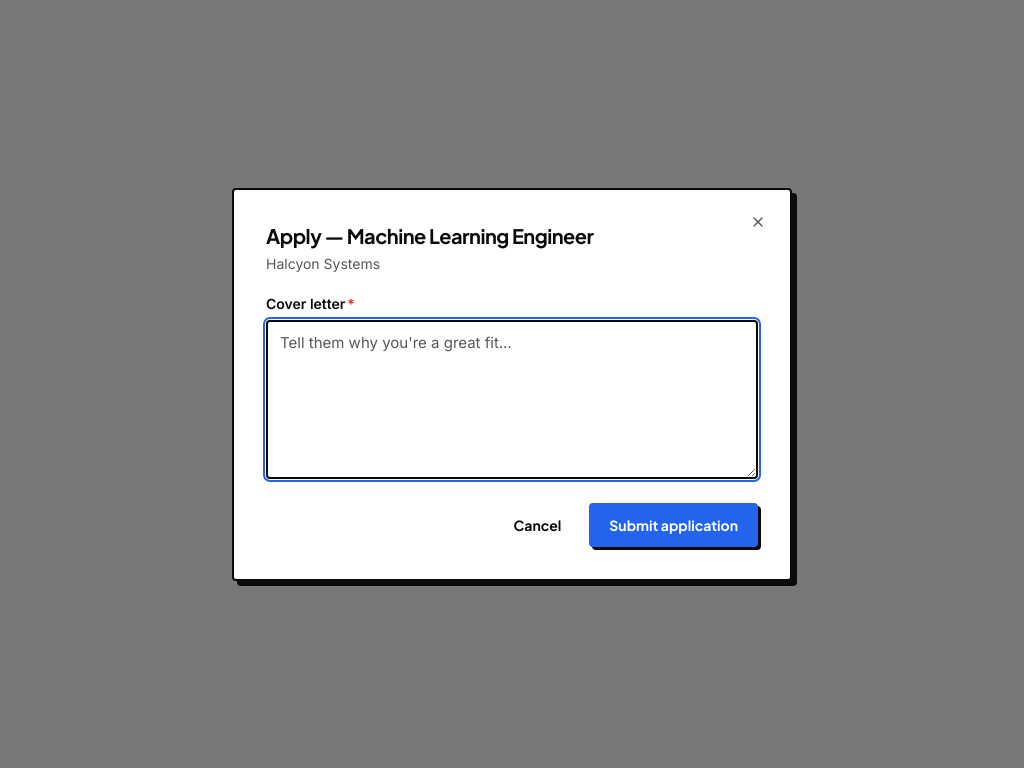
ApplyModal › renders a 400 API error inline and keeps the modal open
Step 1. Type "Hi!" into the text box labelled "Cover letter*" → (512, 399), box [266,320,758,478]
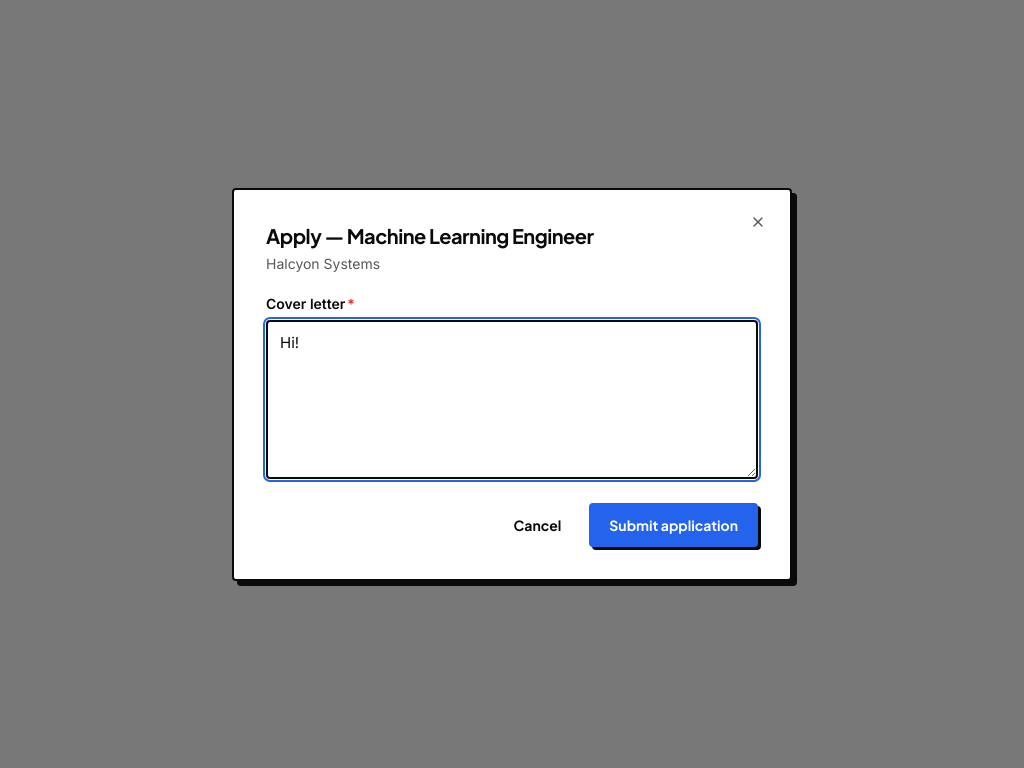
Step 2. Click the button "Submit application" → (674, 524), box [589,502,758,546]
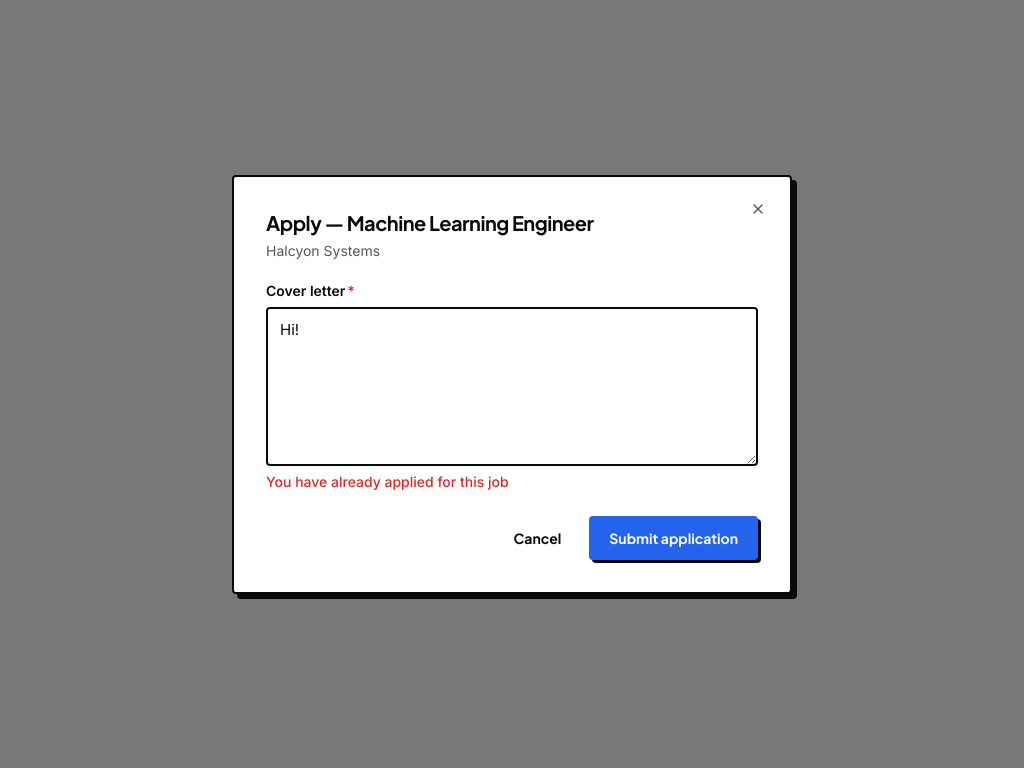
Expected: the dialog is shown, [232,174,792,594]
Result: the text "You have already applied for this job" is shown at [266,472,509,490]
